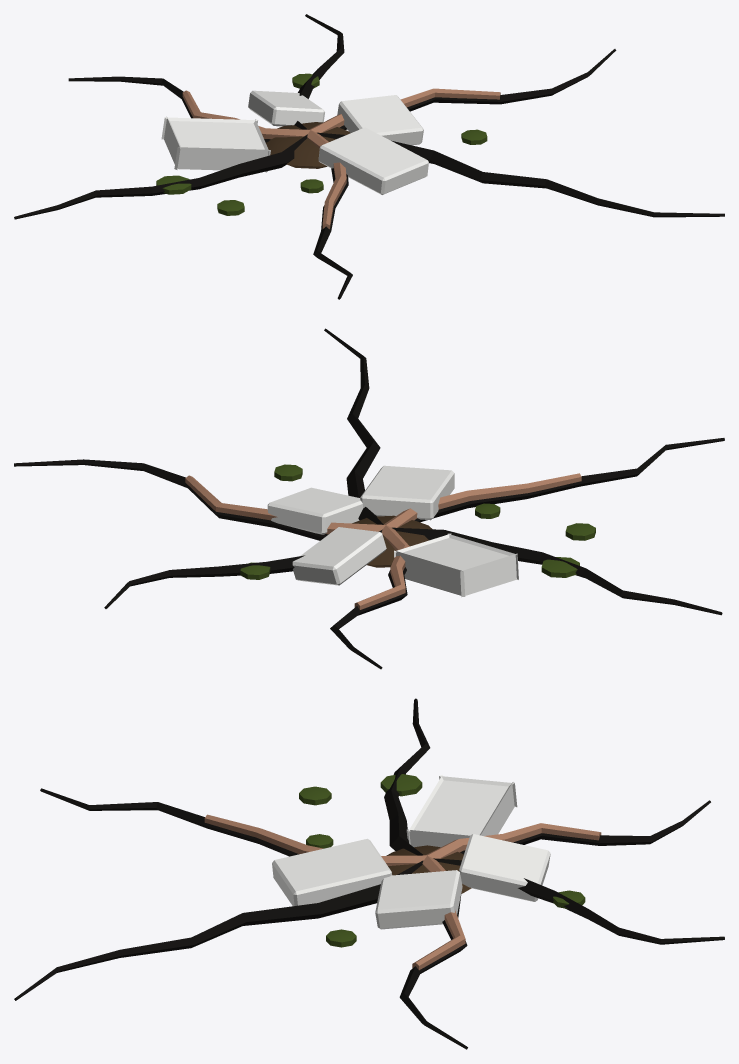
The model's file is e39_bed_crack.glb.
3 renders of one model, top to bottom at view 1: azimuth 30°, elevation 25°; view 2: azimuth 150°, elevation 25°; view 3: azimuth 270°, elevation 25°, orthographic. The views are drawn at different scales.
Parts seen in each view (by area): view 1: teil2, teil0, teil1, teil4, teil3; view 2: teil2, teil0, teil1, teil4, teil3; view 3: teil2, teil0, teil1, teil4, teil3.
Part boxes in pixels (bbox=[...]): teil2: bbox=[161, 90, 428, 194]; teil0: bbox=[14, 14, 724, 299]; teil1: bbox=[182, 88, 500, 229]; teil4: bbox=[156, 73, 487, 215]; teil3: bbox=[266, 122, 350, 168]; teil2: bbox=[267, 465, 518, 597]; teil0: bbox=[14, 328, 724, 669]; teil1: bbox=[185, 473, 581, 609]; teil4: bbox=[240, 464, 595, 579]; teil3: bbox=[352, 515, 432, 567]; teil2: bbox=[272, 775, 550, 929]; teil0: bbox=[14, 698, 724, 1049]; teil1: bbox=[204, 814, 601, 970]; teil4: bbox=[299, 774, 585, 947]; teil3: bbox=[386, 845, 471, 893].
Bounding box in the file's own units: 0.4392 × 0.0262 × 0.3786.
